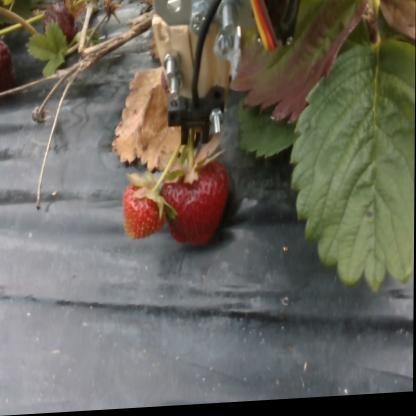ripe: (168, 161, 230, 247), (123, 176, 167, 243)
